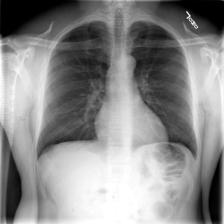normal: (28, 15, 203, 170)
